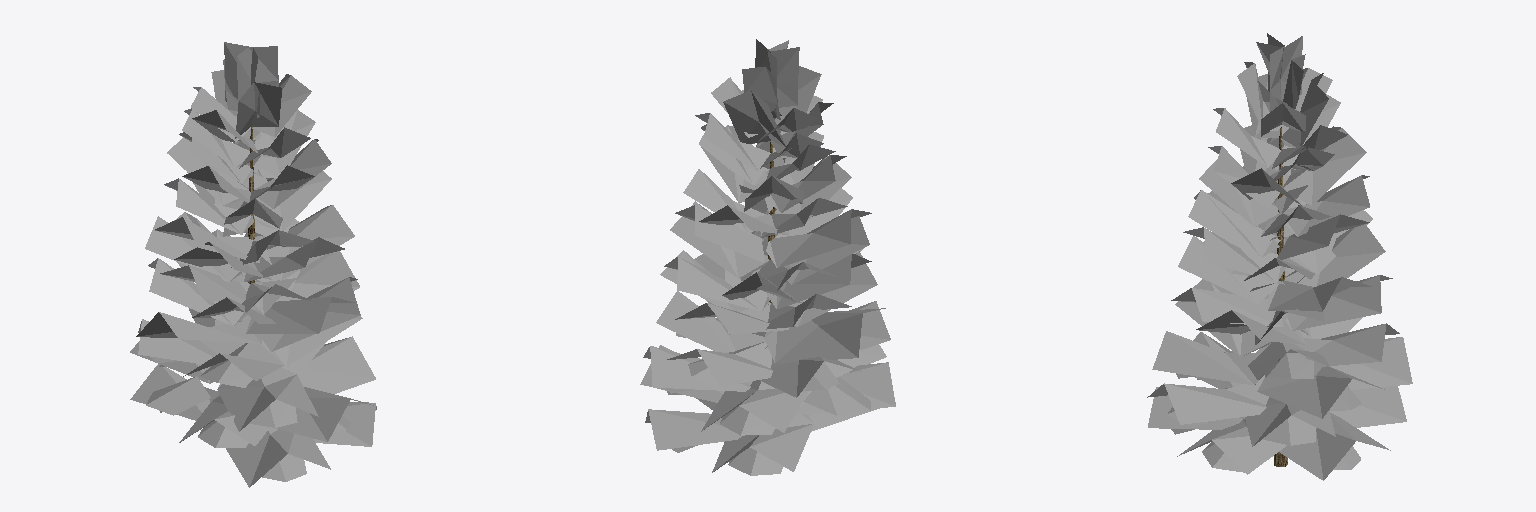
3 views of the same model, side by side, from view 1: azimuth 30°, elevation 25°; view 2: azimuth 150°, elevation 25°; view 3: azimuth 270°, elevation 25° (orthographic).
Visible parts, largest first — view 1: mesh1_mesh1_001; view 2: mesh1_mesh1_001; view 3: mesh1_mesh1_001.
Boxes of the visible parts, x1=… form: mesh1_mesh1_001: x1=130, y1=42, x2=376, y2=487; mesh1_mesh1_001: x1=640, y1=39, x2=895, y2=475; mesh1_mesh1_001: x1=1147, y1=33, x2=1412, y2=480.
Size of the model in its own units: 20.67 by 38.95 by 22.3.
Materials: 2 (1 with a texture image).